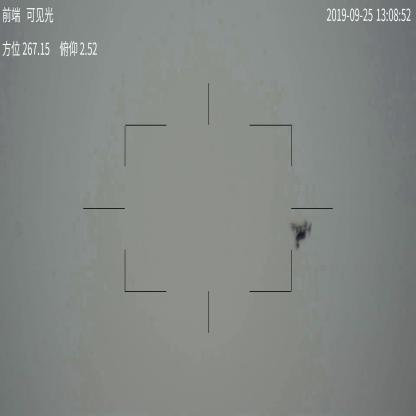uav: (290, 220, 314, 250)
